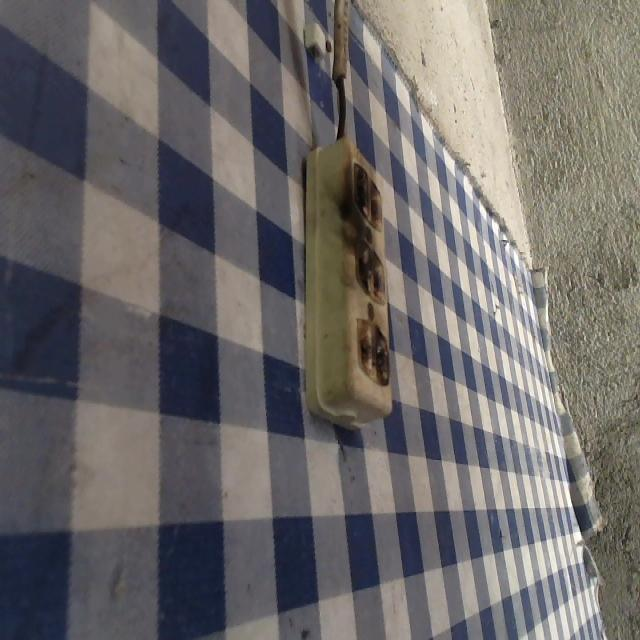-: (346, 157, 382, 231), (352, 315, 389, 384), (352, 236, 385, 307)
